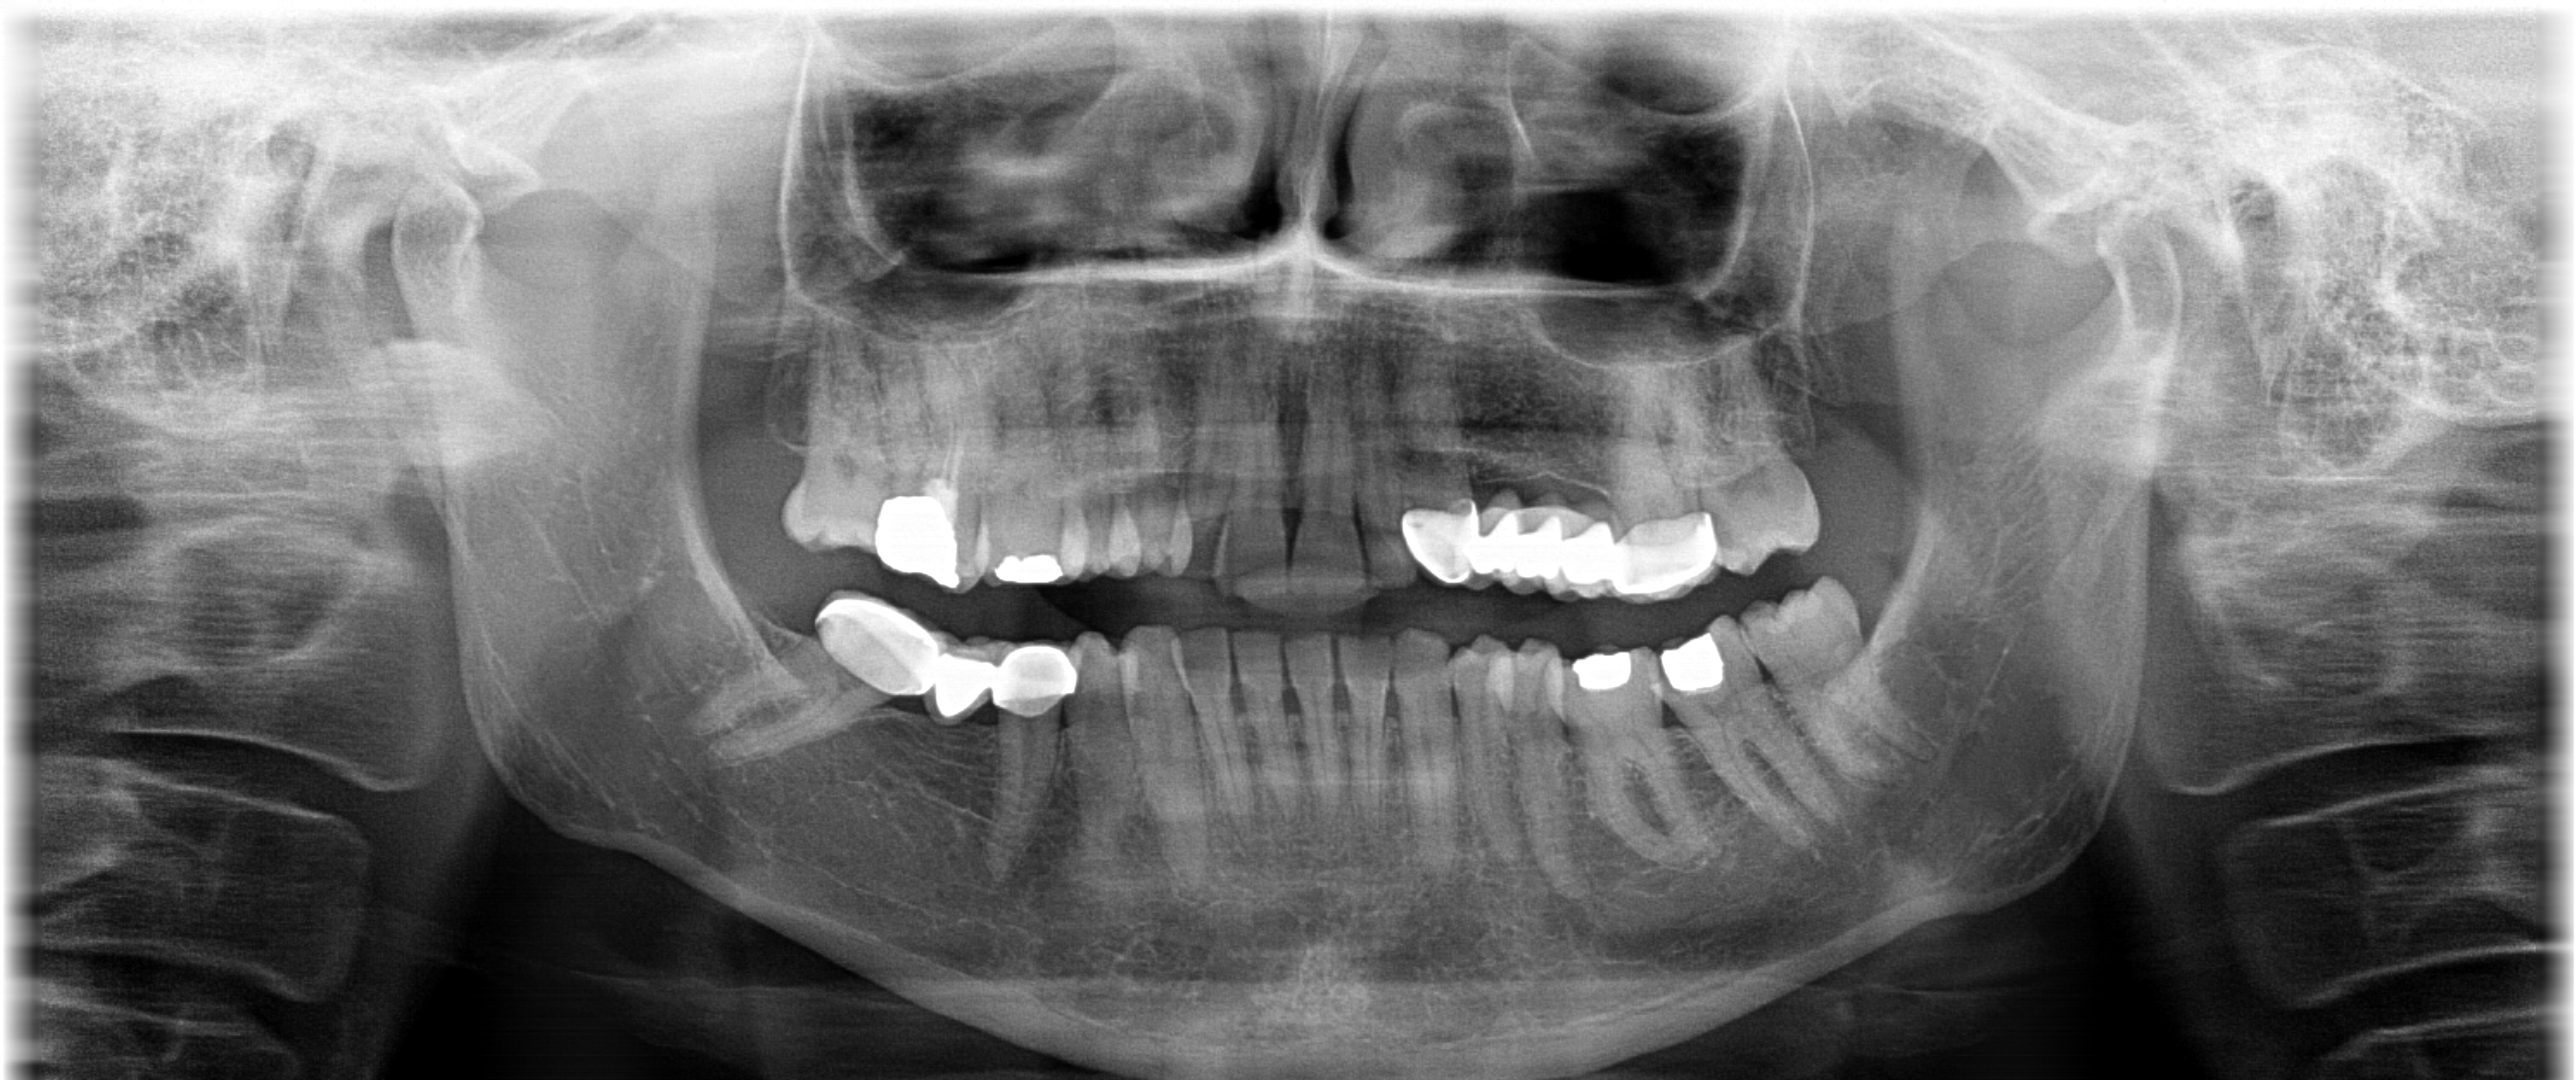cordal: (1722, 559, 1975, 799), (759, 312, 922, 580)
